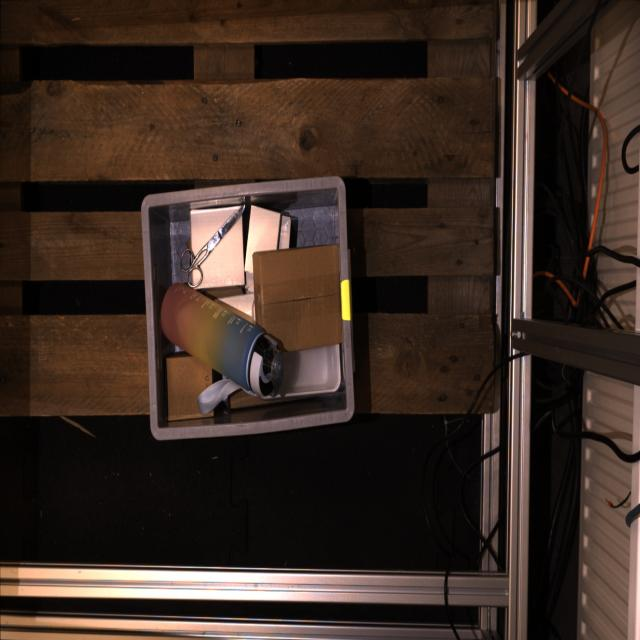Bottle: (160, 280, 285, 399)
CardboardBox: (254, 246, 342, 349), (188, 205, 245, 289), (166, 357, 214, 422), (245, 206, 280, 274), (230, 392, 283, 408), (219, 293, 254, 317), (279, 215, 296, 249), (245, 272, 254, 293)
PlasticContainer: (276, 344, 340, 397)
scissors: (179, 204, 246, 287)
